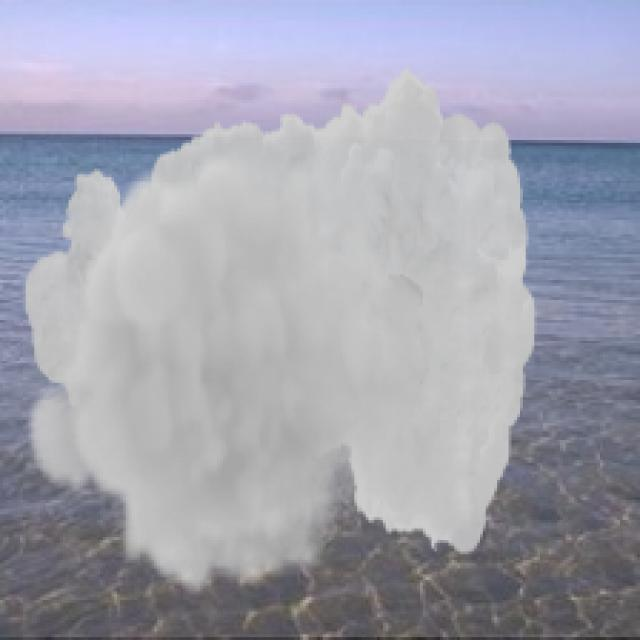smoke: (23, 63, 537, 597)
